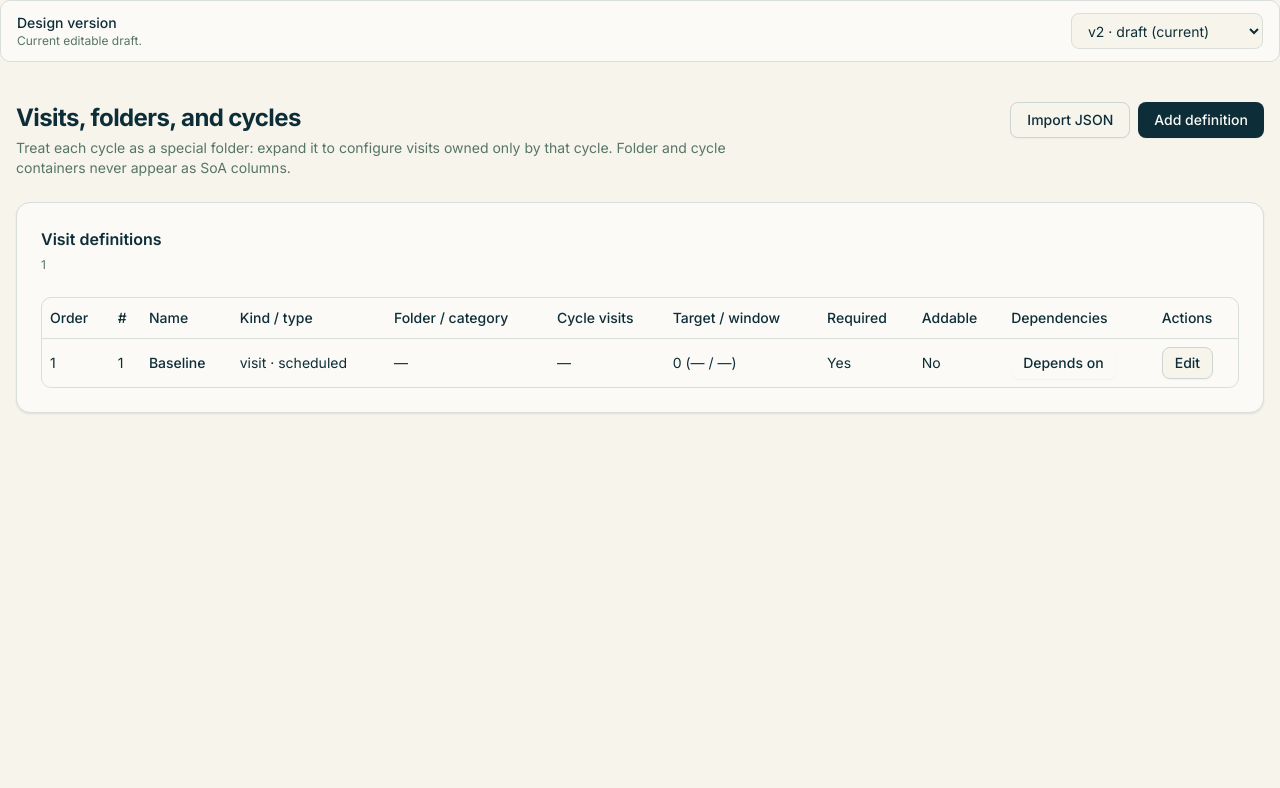
Test: VisitsPage › reveals cycle-only fields when definition kind is cycle
Check: the text "Baseline" is shown, box x1=141 y1=338 x2=232 y2=386
Step 1. Click the button "Add definition" → (1201, 120), box x1=1138 y1=102 x2=1264 y2=138
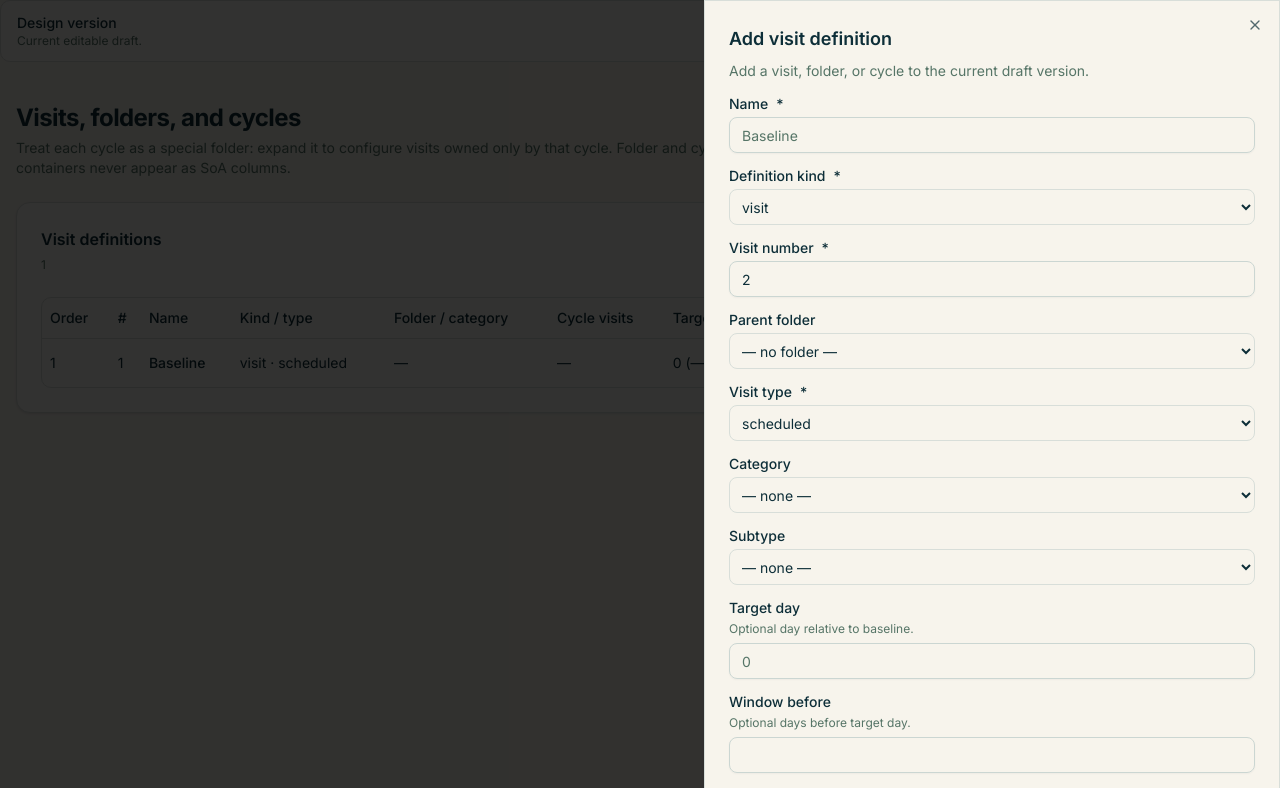
Check: the field labelled "Cycle length" is not shown
Step 2. Select "cycle" in the dropdown labelled "Definition kind *" → (992, 207), box x1=729 y1=189 x2=1255 y2=225
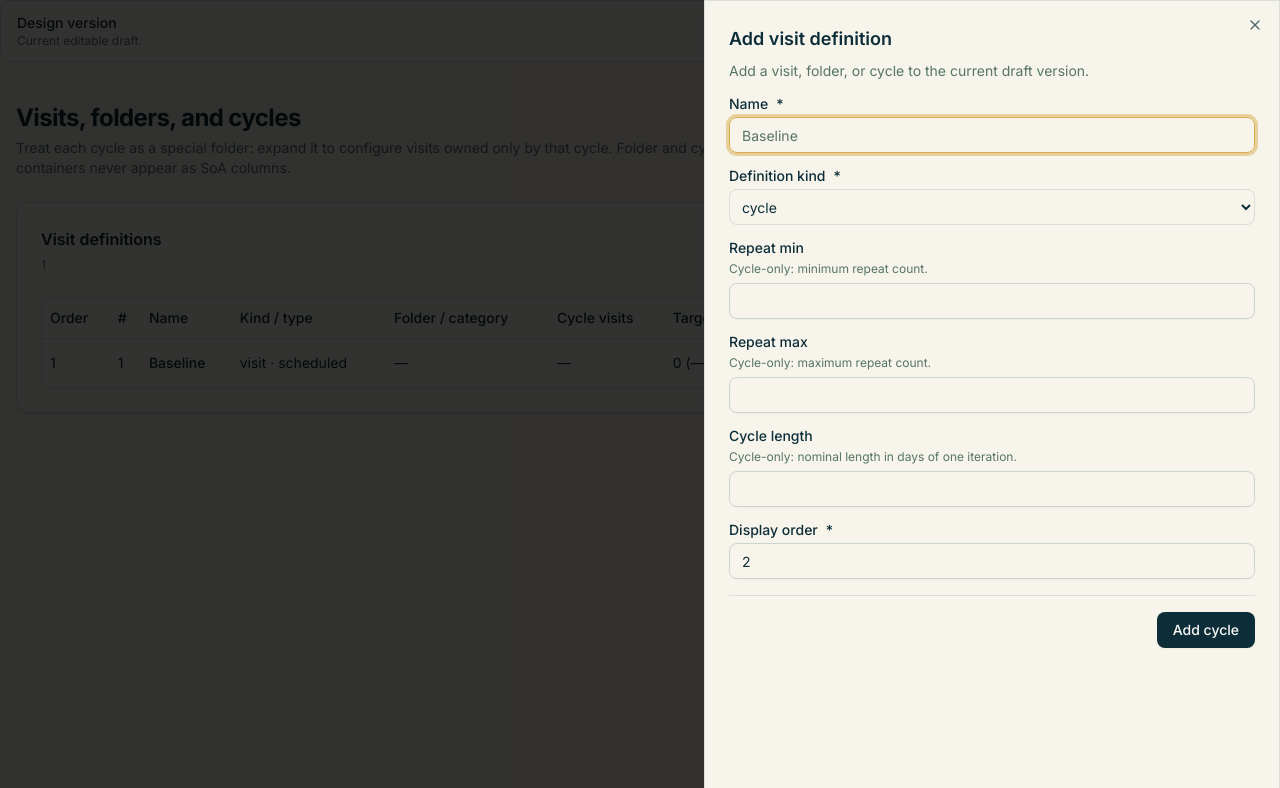
Check: the number field labelled "Cycle length" is shown, box x1=729 y1=471 x2=1255 y2=507
